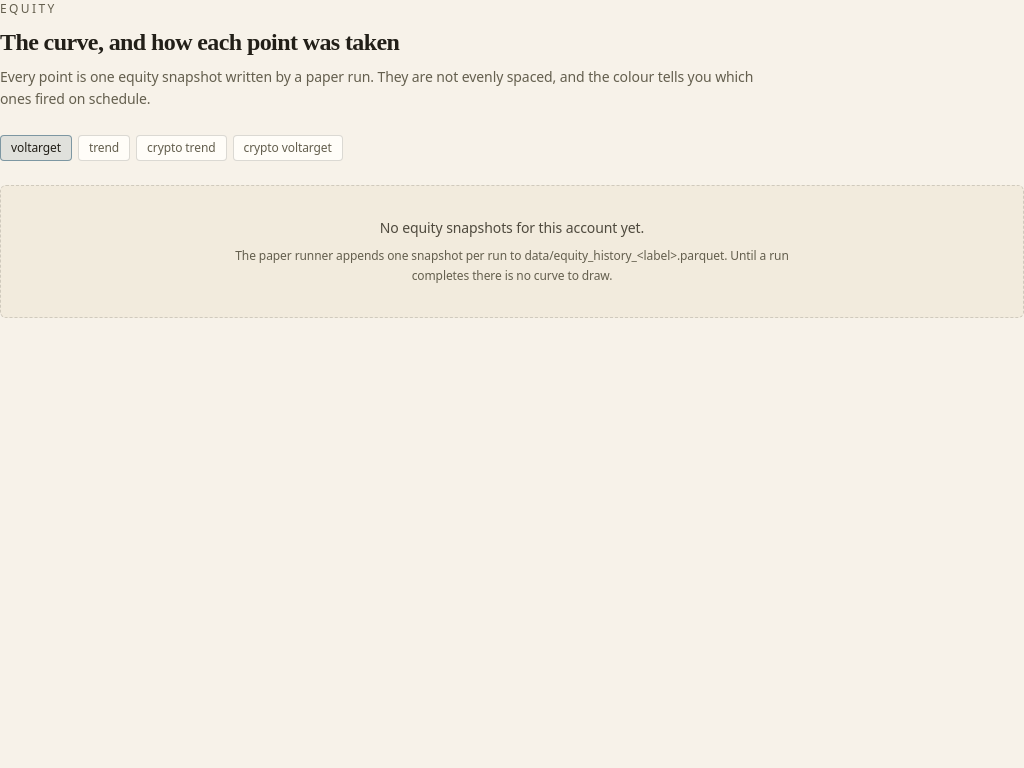
Equity › colours points by provenance and explains why it matters
The width and height of the screenshot is (1024, 768).
Click the button "crypto voltarget". click: (288, 148)
box: x1=232 y1=135 x2=343 y2=161
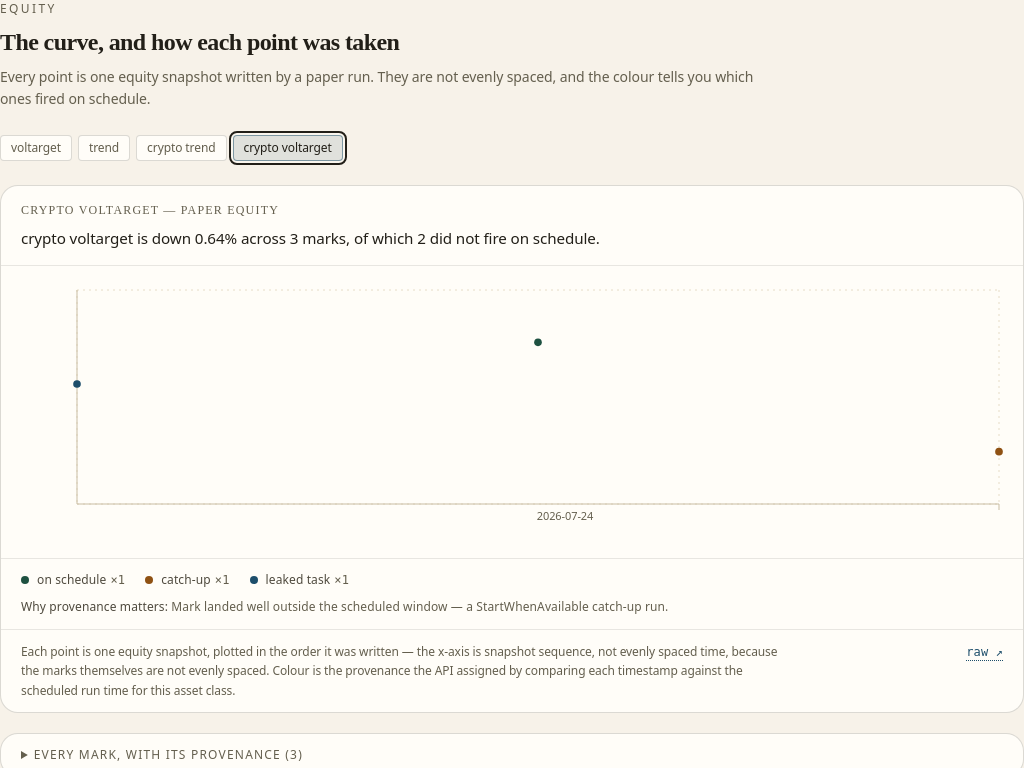
Check: the element with test id "provenance-legend" shows "on schedule", box x1=37 y1=571 x2=106 y2=588
Check: the element with test id "provenance-legend" shows "catch-up", box x1=161 y1=571 x2=211 y2=588
Check: the element with test id "provenance-legend" shows "leaked task", box x1=266 y1=571 x2=330 y2=588
